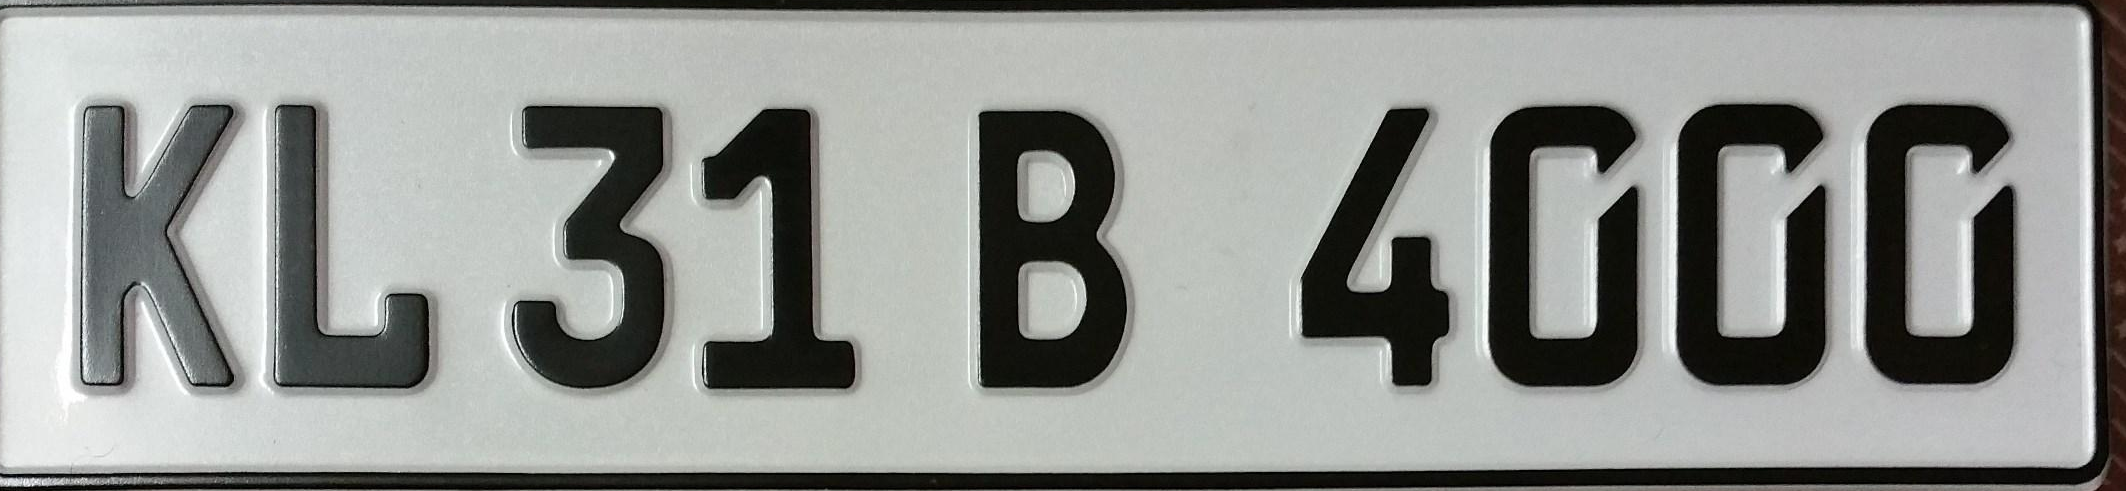0: (1668, 101, 1842, 396), (1479, 103, 1656, 394), (1855, 99, 2023, 386)
1: (688, 105, 864, 392)
3: (507, 101, 675, 393)
4: (1281, 103, 1464, 394)
B: (970, 107, 1137, 399)
K: (71, 99, 241, 394)
L: (268, 101, 440, 394)
